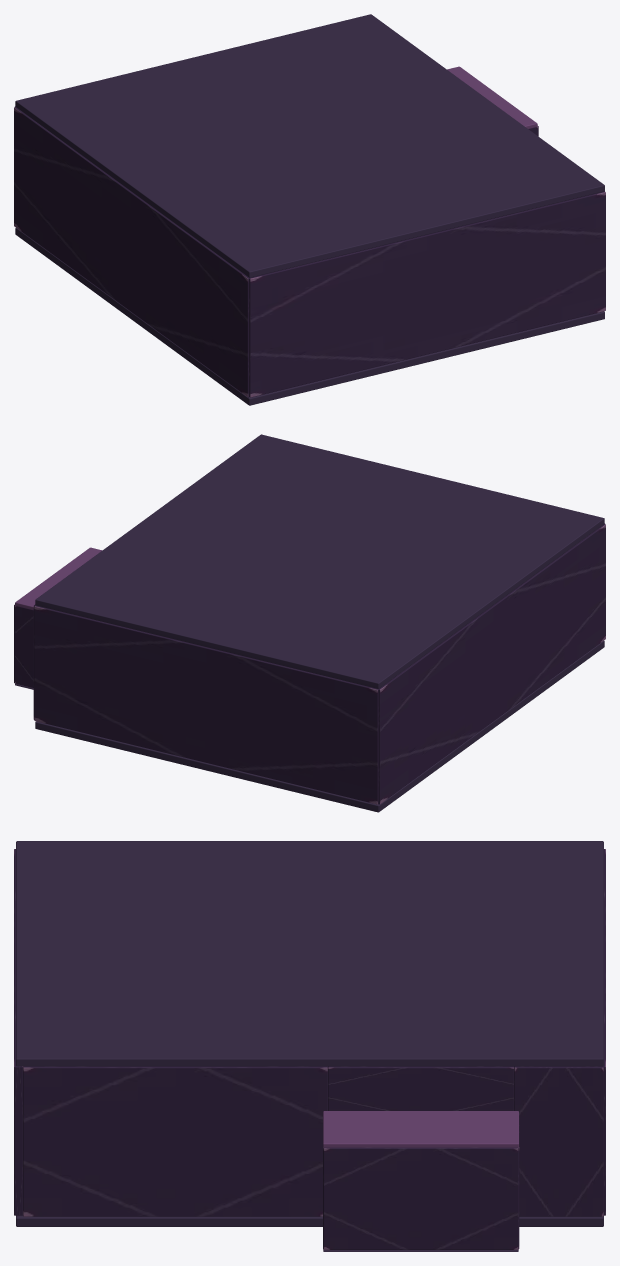
The model's file is shell.glb.
3 views of the same model, one above another, from view 1: azimuth 30°, elevation 25°; view 2: azimuth 150°, elevation 25°; view 3: azimuth 270°, elevation 25° (orthographic). The views are drawn at different scales.
Parts seen in each view (by area): view 1: ceiling_deck, end_wall, door_glass, end_pilaster; view 2: ceiling_deck, end_wall, door_glass, end_pilaster; view 3: ceiling_deck, end_wall, end_pilaster, door_glass.
Boxes of the visible parts, x1,y1,x2,y2 form: ceiling_deck: (15, 14, 604, 277); end_wall: (14, 106, 605, 397); door_glass: (15, 228, 604, 405); end_pilaster: (447, 66, 537, 128); ceiling_deck: (35, 434, 604, 688); end_wall: (14, 523, 605, 804); door_glass: (35, 641, 604, 812); end_pilaster: (15, 547, 102, 609); ceiling_deck: (16, 841, 603, 1066); end_wall: (14, 849, 605, 1249); end_pilaster: (323, 1111, 518, 1147); door_glass: (16, 1215, 603, 1226).
Size of the model in its own units: 16.72 by 5.18 by 16.52.
Materials: 11 (1 with a texture image).
